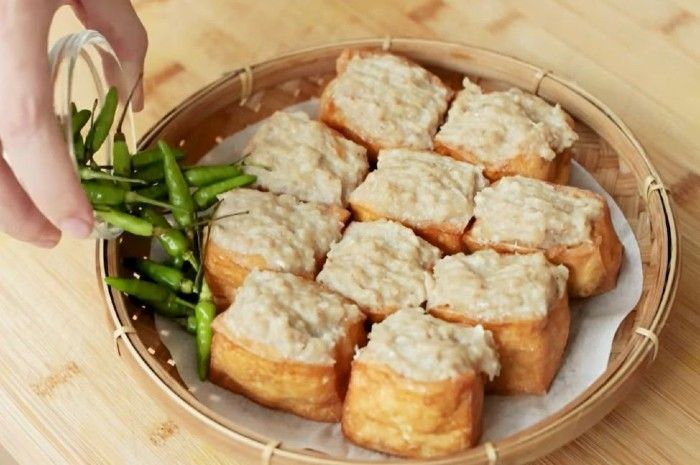Tahu: (189, 297, 363, 414), (347, 315, 491, 441), (188, 216, 354, 297), (429, 248, 562, 346), (307, 227, 451, 313), (434, 100, 577, 186), (483, 191, 639, 255), (243, 131, 364, 206), (364, 154, 482, 223), (325, 77, 435, 138)
